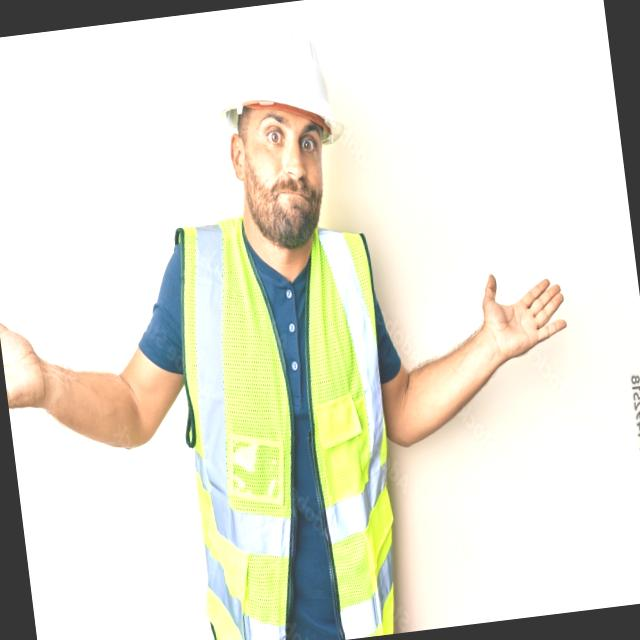goggles: (225, 106, 340, 168)
helmet: (198, 5, 354, 160)
vest: (160, 223, 418, 640)
